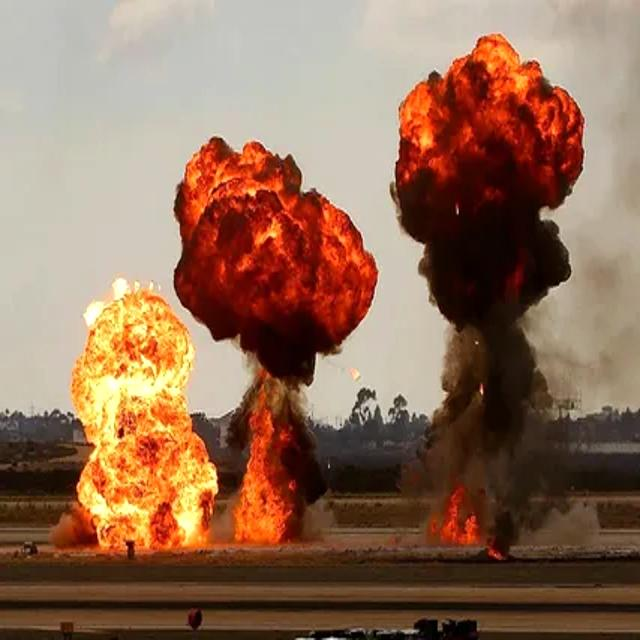helmet: (84, 284, 215, 548), (229, 380, 306, 548)
no_helmet: (394, 35, 576, 560), (173, 138, 379, 546)
